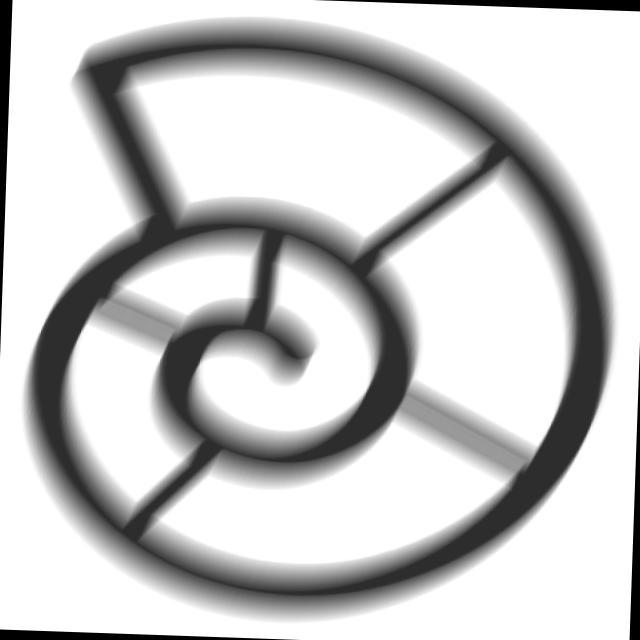fossil: (4, 3, 635, 640)
